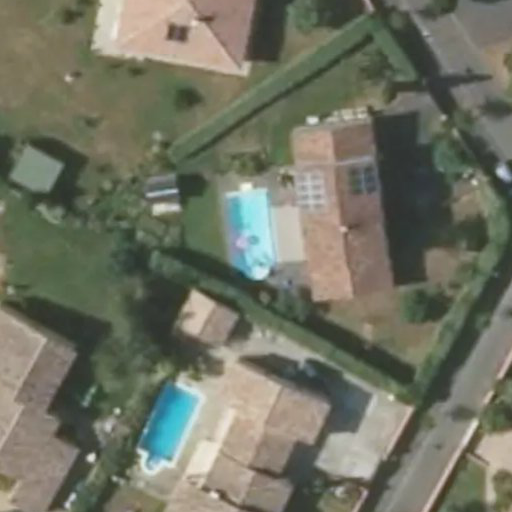pool: (232, 202, 281, 283)
